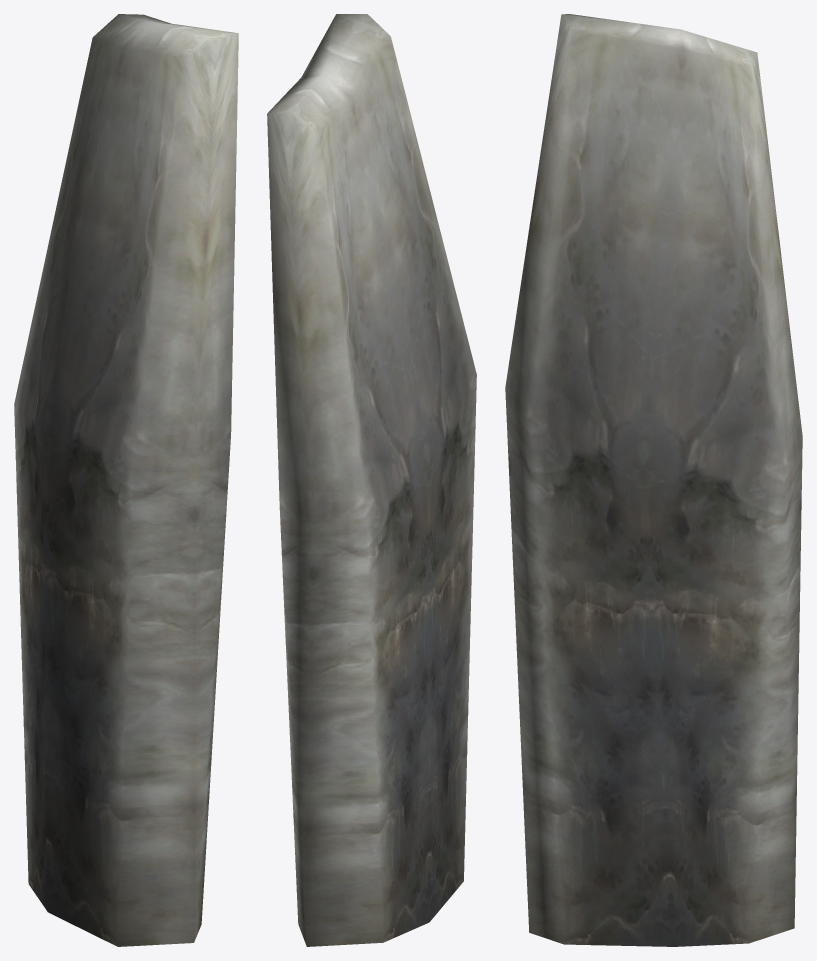
Rendered from arathirock02.glb.
3 renders of one model, left to right at view 1: azimuth 30°, elevation 25°; view 2: azimuth 150°, elevation 25°; view 3: azimuth 270°, elevation 25°, orthographic. The views are drawn at different scales.
Size of the model in its own units: 1.88 by 10.84 by 3.12.
Materials: 1 (1 with a texture image).
